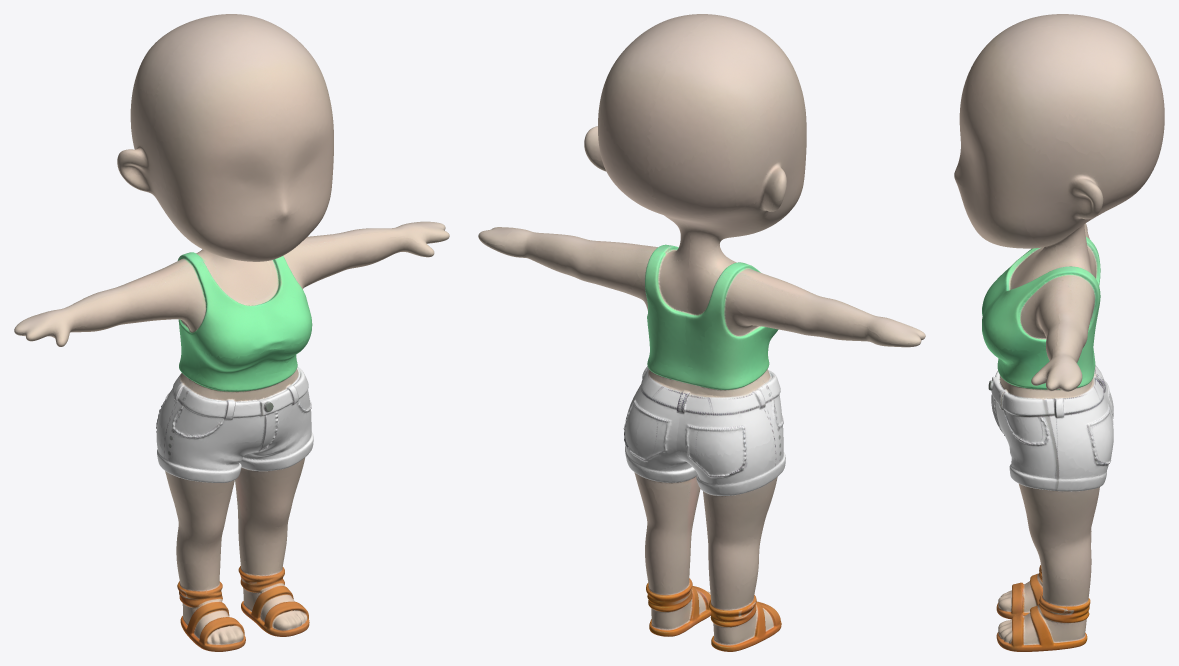
File: baked_outfit_summer.glb
3 renders of one model, left to right at view 1: azimuth 30°, elevation 25°; view 2: azimuth 150°, elevation 25°; view 3: azimuth 270°, elevation 25°, orthographic. The views are drawn at different scales.
Bounding box in the file's own units: 1.44 × 1.9 × 0.6021.
1 material, 1 textured.
